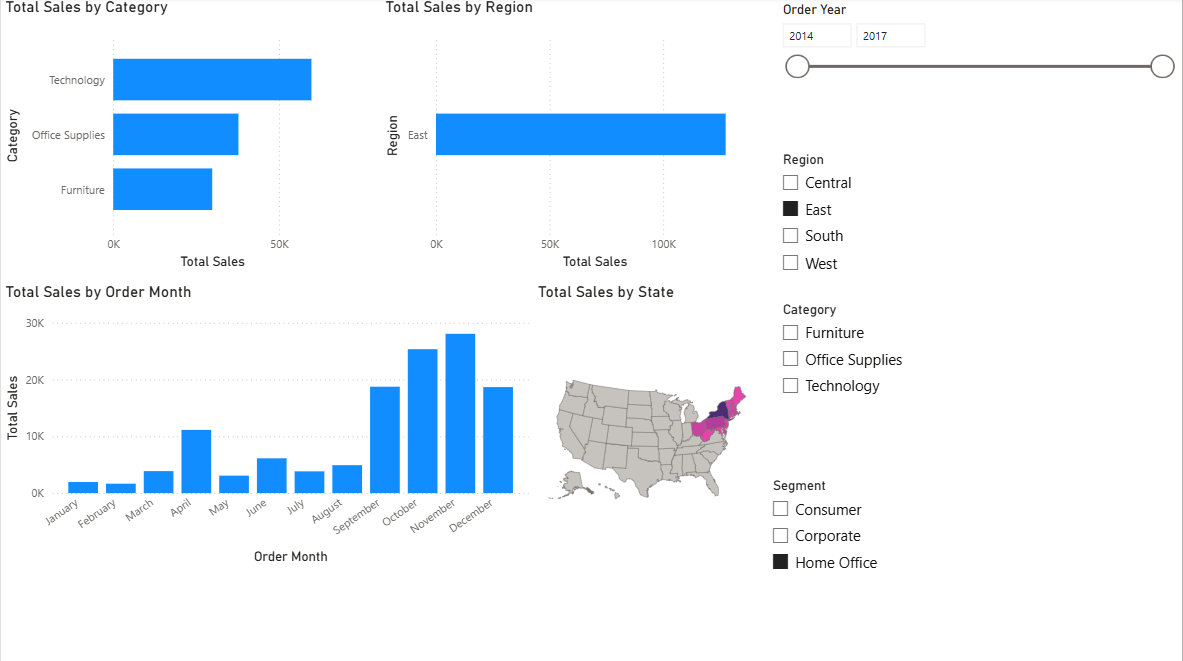

What the dashboard file says about the page in this screenshot:
{"tool":"powerbi","page":{"name":"Executive Dashboard","canvas":[1280,720],"ordinal":0},"visuals":[{"type":"clusteredBarChart","fields":{"Category":["superstore_cleaned.Region"],"Y":["superstore_cleaned.Total Sales"]},"box":[411.5,0,423.6,299.9],"z":0},{"type":"columnChart","fields":{"Category":["superstore_cleaned.Order Month"],"Y":["superstore_cleaned.Total Sales"]},"box":[0,309.3,576.9,310.7],"z":1000},{"type":"barChart","fields":{"Y":["superstore_cleaned.Total Sales"],"Category":["superstore_cleaned.Category"]},"box":[0,0,352.3,299.9],"z":2000},{"type":"slicer","fields":{"Values":["superstore_cleaned.Order Year"]},"box":[835.1,0,445.1,162.7],"z":3000},{"type":"slicer","fields":{"Values":["superstore_cleaned.Region"]},"box":[835.1,162.7,445.1,162.7],"z":4000},{"type":"slicer","fields":{"Values":["superstore_cleaned.Category"]},"box":[835.1,325.4,445.1,191],"z":5000},{"type":"slicer","fields":{"Values":["superstore_cleaned.Segment"]},"box":[824.4,516.4,445.1,203.1],"z":6000},{"type":"map","fields":{"Category":["superstore_cleaned.State"],"Size":["superstore_cleaned.Total Sales"]},"box":[576.9,309.3,247,311],"z":7000}]}

Visuals, with their boxes in screenshot pixels (x1, y1, x2, y2), scaled from the page's 1280x720 canvas onto the 1183x661 screenshot:
clusteredBarChart - superstore_cleaned.Region x superstore_cleaned.Total Sales: 380,0,772,275
columnChart - superstore_cleaned.Order Month x superstore_cleaned.Total Sales: 0,284,533,569
barChart - superstore_cleaned.Total Sales x superstore_cleaned.Category: 0,0,326,275
slicer - superstore_cleaned.Order Year: 772,0,1182,149
slicer - superstore_cleaned.Region: 772,149,1182,299
slicer - superstore_cleaned.Category: 772,299,1182,474
slicer - superstore_cleaned.Segment: 762,474,1173,660
map - superstore_cleaned.State x superstore_cleaned.Total Sales: 533,284,761,569
